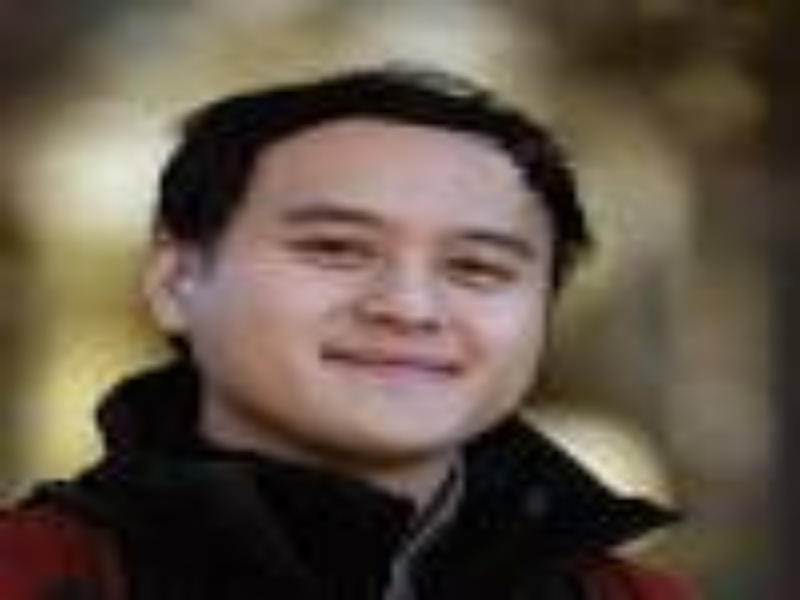person: (33, 65, 709, 590)
